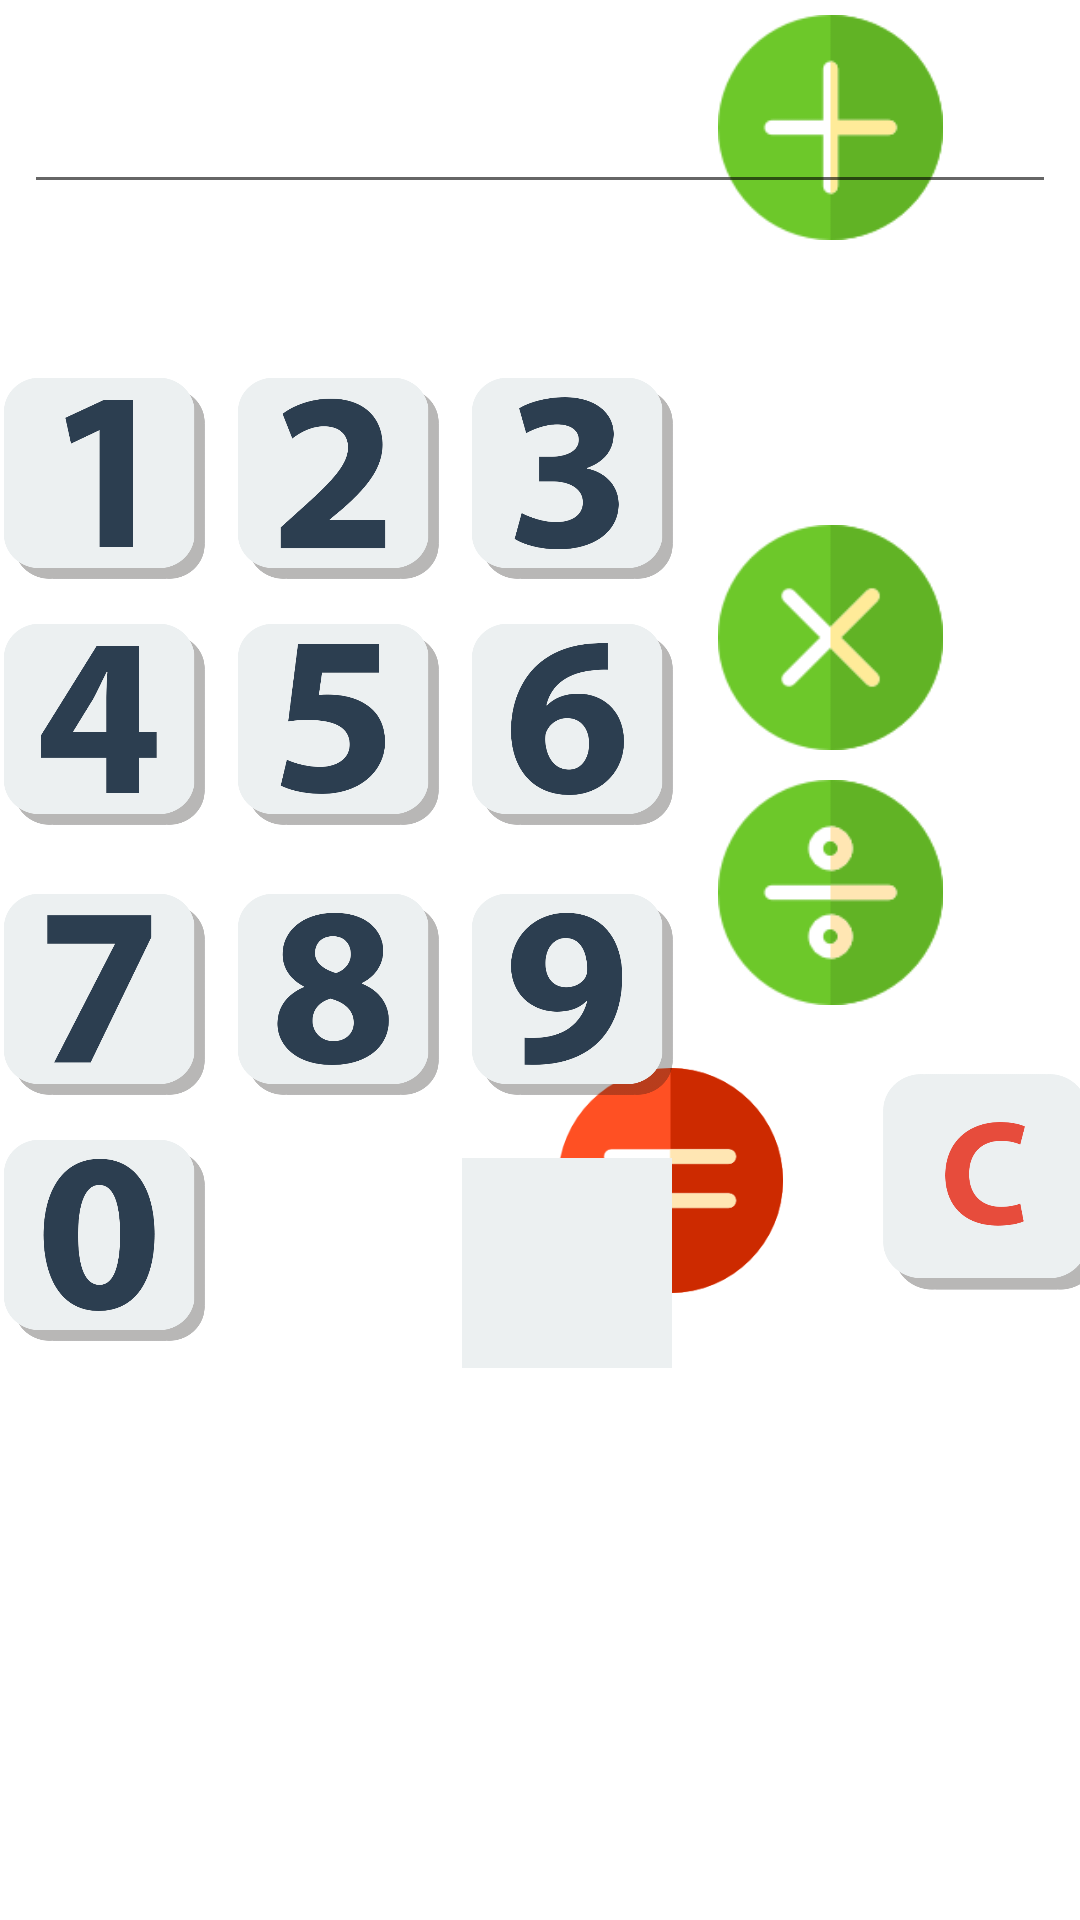

Named icons in this screenshot (1080*1920) and their centers, point (x, y):
division: point (830, 892)
multiplicacion: point (830, 637)
suma: point (830, 127)
